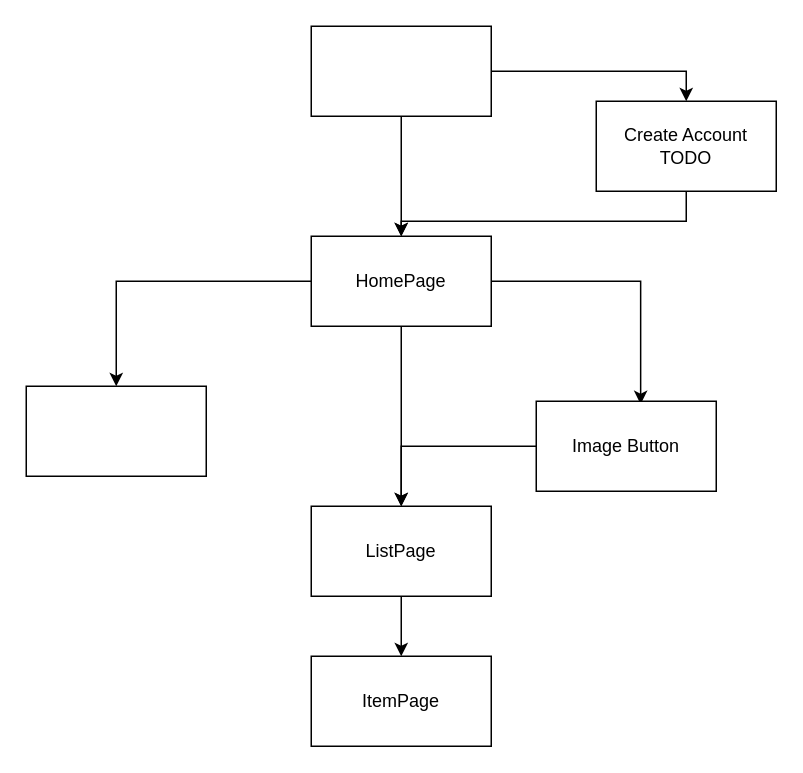
Image size: 803x773. Some labels were removed from this diagram. The shapes that lost their labels are listed below. From the top down, each one's centre as x and y in pixels, then its label:
the point at 400,70: Auth TODO
the point at 115,430: UserPage / Favorites TODO
